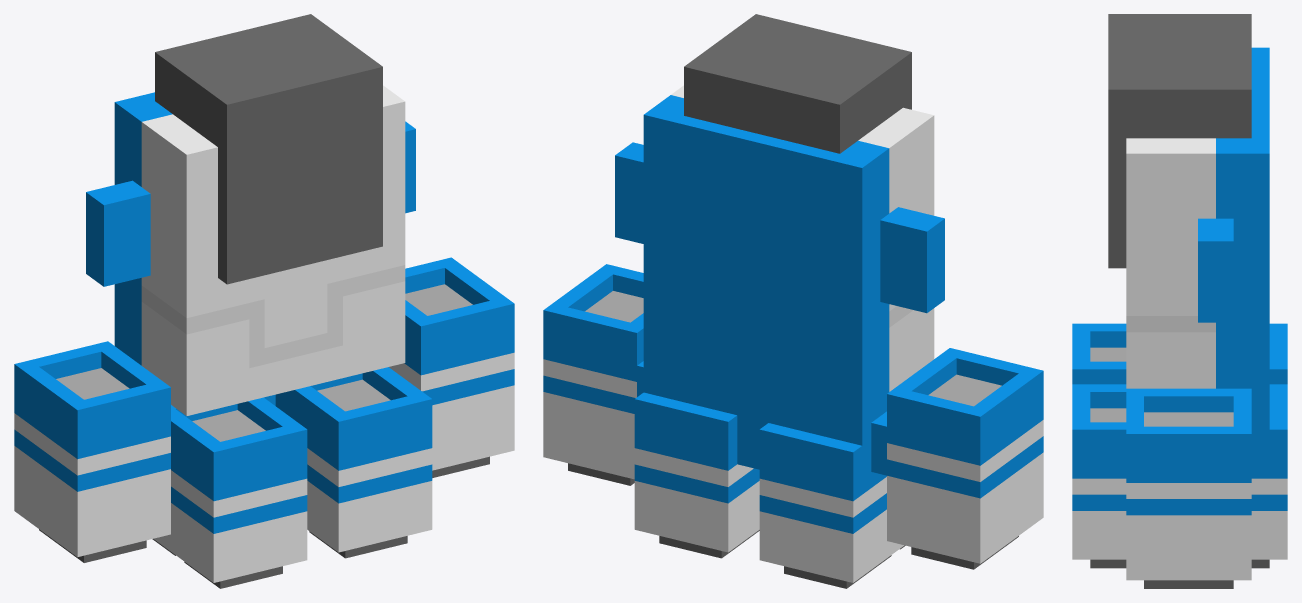
The model's file is sp cruiser.obj.
3 renders of one model, left to right at view 1: azimuth 30°, elevation 25°; view 2: azimuth 150°, elevation 25°; view 3: azimuth 270°, elevation 25°, orthographic.
Bounding box in the file's own units: 28 × 29 × 12.
1 material, 1 textured.
